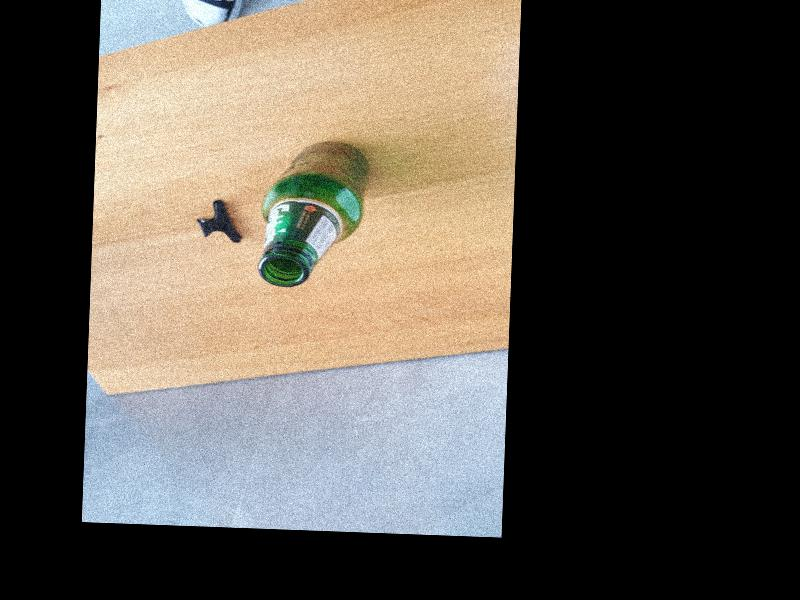Beer: (256, 137, 370, 289)
